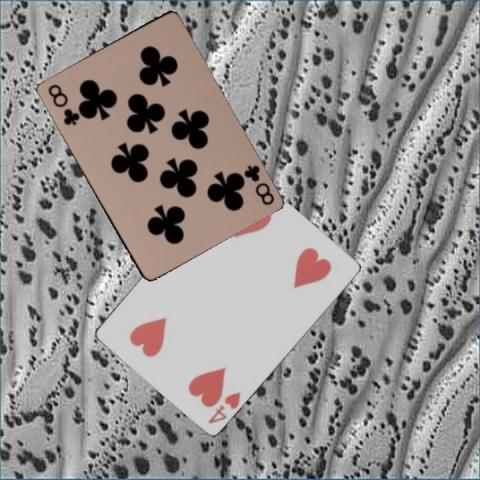4h: (205, 389, 242, 424)
8c: (44, 80, 80, 126), (240, 162, 275, 207)
